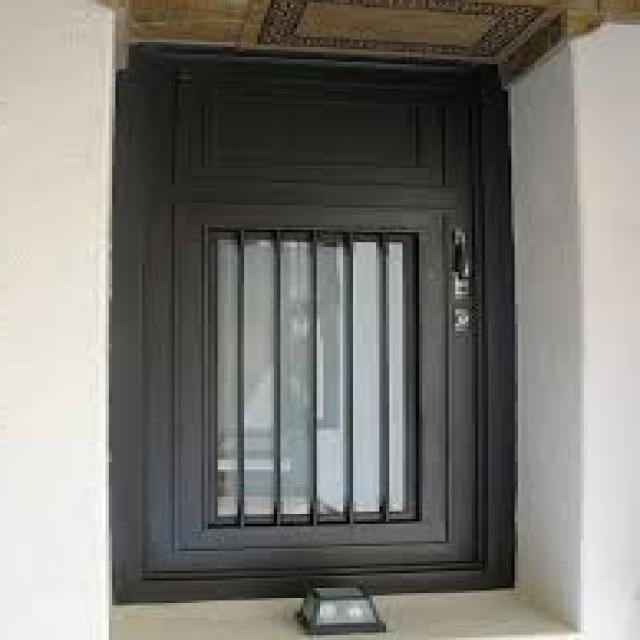door: (119, 53, 511, 597)
